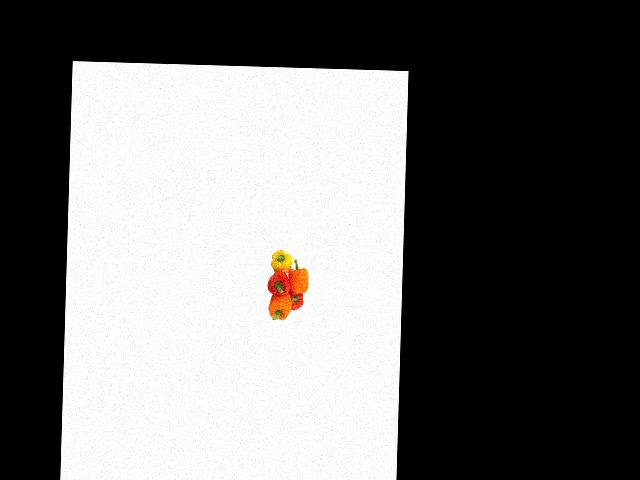bell_pepper: (265, 291, 294, 326)
